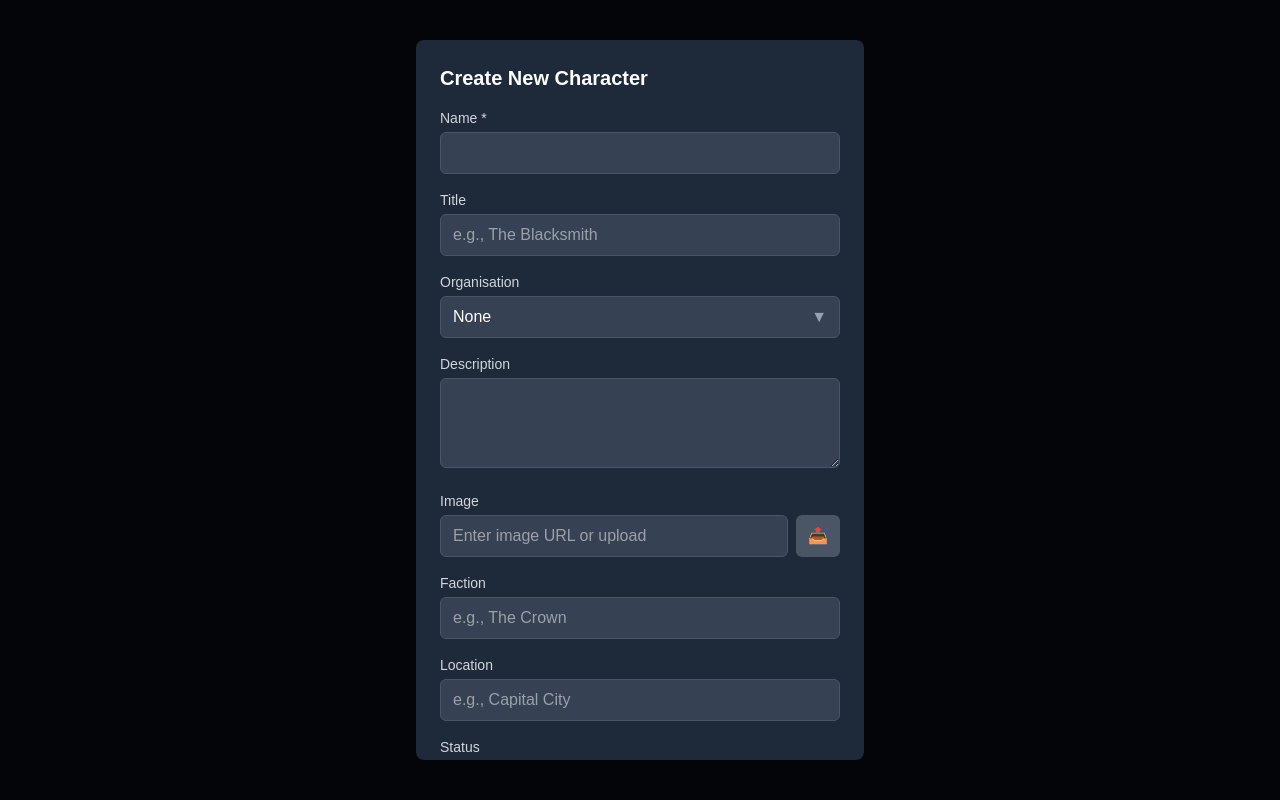
Test: CharacterForm Component › Unified Character Creation Layout › should show all organisation options plus None in alphabetical order
// Open the dropdown
Step 1. Click the button named "organisation" → (472,316), box [440, 296, 840, 338]
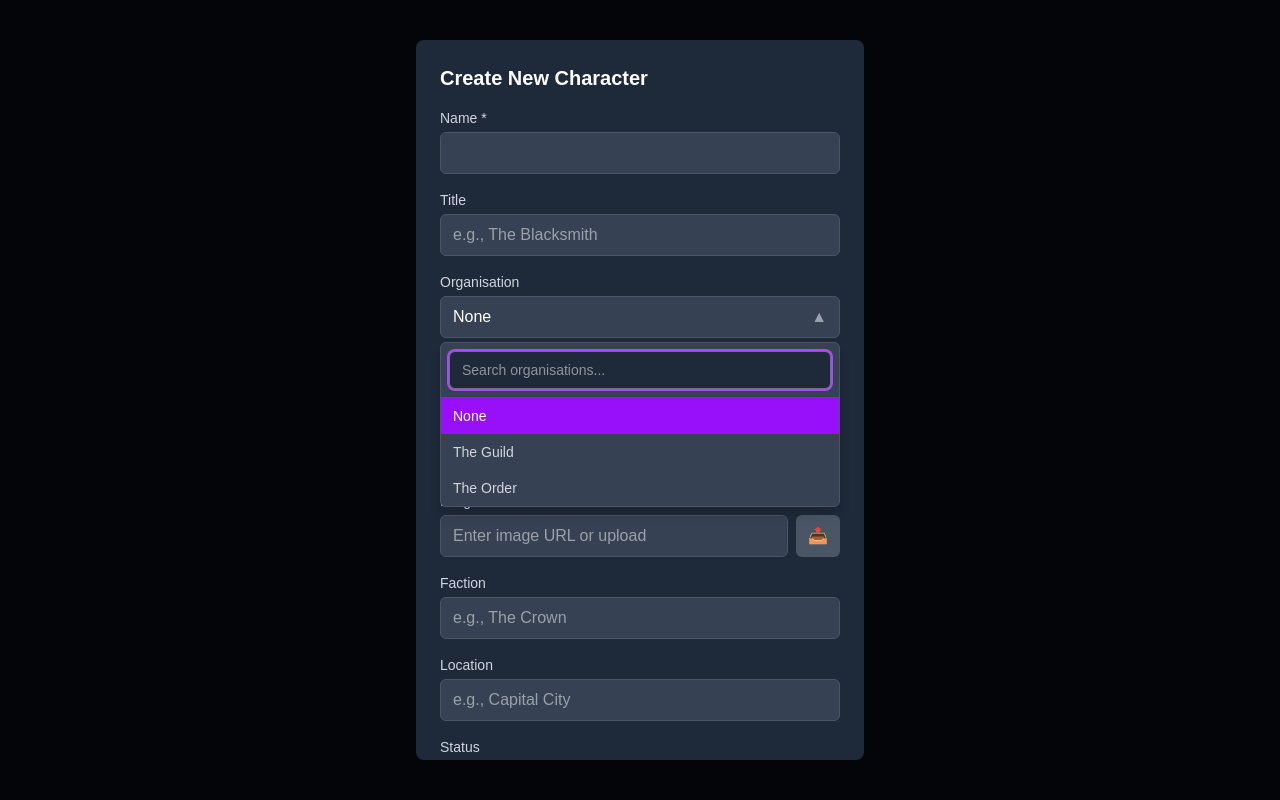
Expected: the button "None" is shown, [441, 398, 839, 434]
Expected: the button "The Guild" is shown, [441, 434, 839, 470]
Expected: the button "The Order" is shown, [441, 470, 839, 506]
